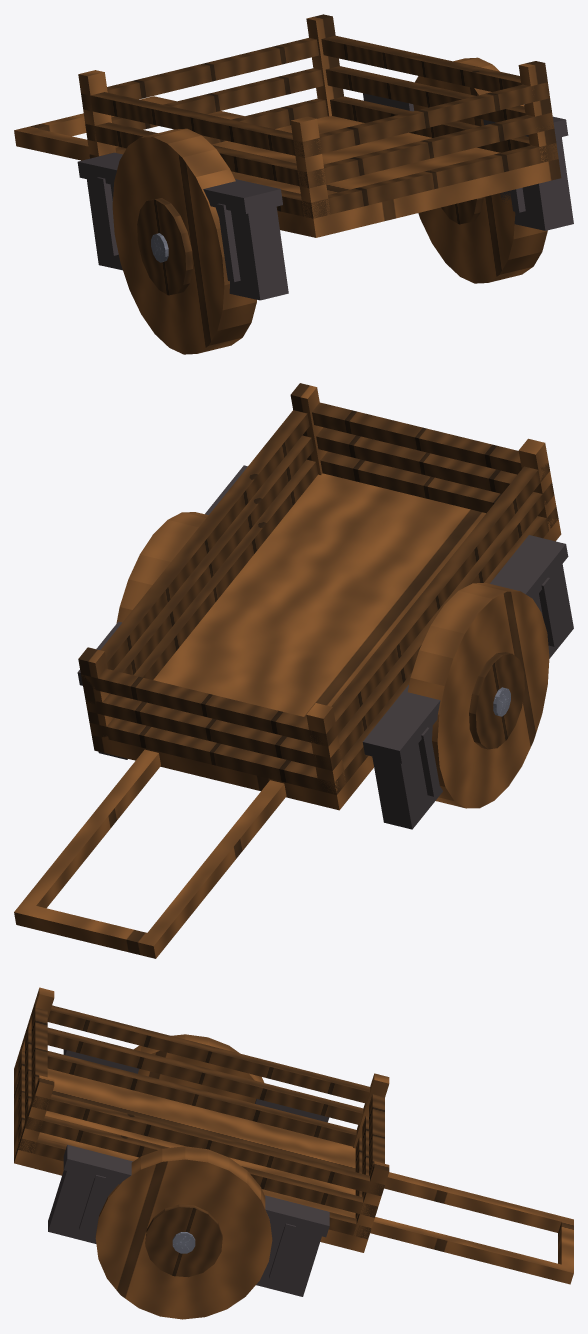
Rendered from holzwagen_t1_world.fbx.
3 views of the same model, one above another, from view 1: azimuth 30°, elevation 25°; view 2: azimuth 150°, elevation 25°; view 3: azimuth 270°, elevation 25° (orthographic). The views are drawn at different scales.
Visible parts, largest first — view 1: Holzwagen_T1; view 2: Holzwagen_T1; view 3: Holzwagen_T1.
Boxes of the visible parts, box(x1,y1,x2,y2) form: Holzwagen_T1: box(14, 14, 573, 354); Holzwagen_T1: box(14, 383, 573, 958); Holzwagen_T1: box(14, 987, 573, 1319).
Bounding box in the file's own units: 121 × 94.74 × 216.
